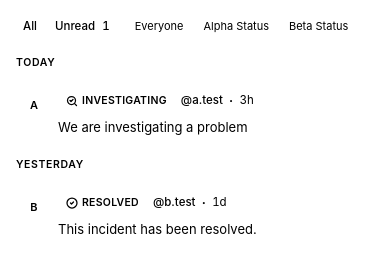
it: the account chips › reset to everyone
The image size is (373, 253).
Click the button "Beta Status". click: (319, 27)
box: [281,16,356,37]
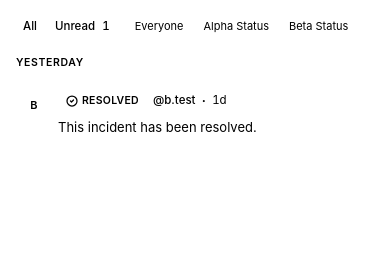
Click the button "Everyone". click: (159, 27)
box: [127,16,191,37]
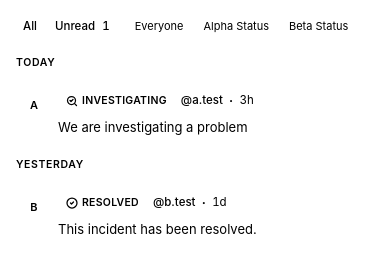
Check: the text "This incident has been resolved." is shown, box [58,221,257,237]
Check: the text "We are investigating a problem" is shown, box [58,119,248,135]
